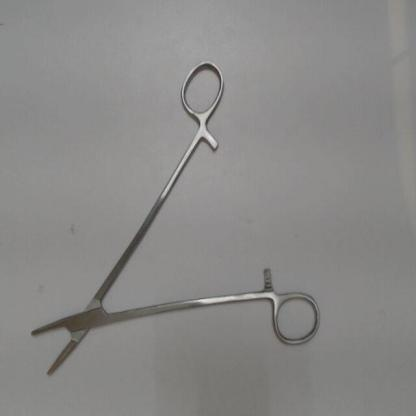8 Mayo Needle Holder: (23, 54, 329, 392)
